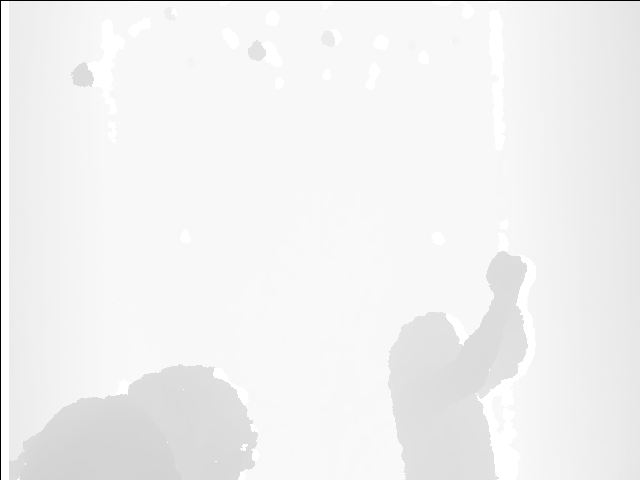hand: (489, 249, 527, 296)
